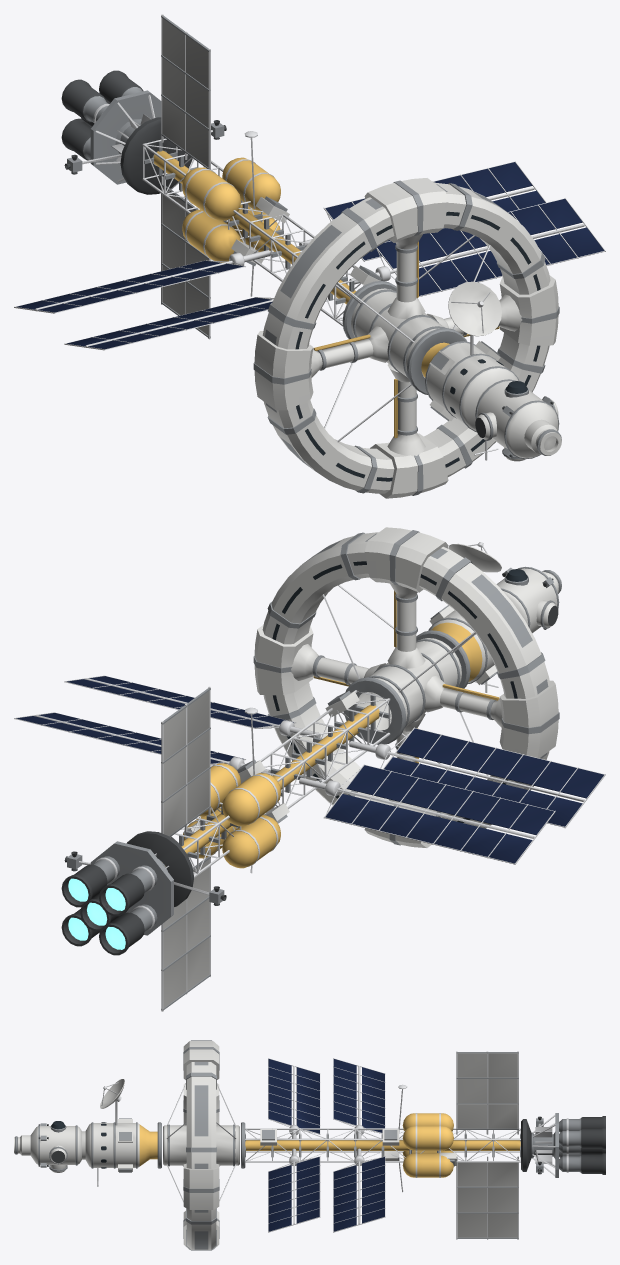
File: hermes.glb
The picture shows the model from 3 angles, top to bottom: view 1: azimuth 30°, elevation 25°; view 2: azimuth 150°, elevation 25°; view 3: azimuth 270°, elevation 25°; orthographic projection. The views are drawn at different scales.
Parts seen in each view (by area): view 1: hermes_mesh, ring_mesh; view 2: hermes_mesh, ring_mesh; view 3: hermes_mesh, ring_mesh.
Boxes of the visible parts, <box> form: hermes_mesh: <box>14,14,605,461</box>; ring_mesh: <box>253,178,559,498</box>; hermes_mesh: <box>14,542,605,1011</box>; ring_mesh: <box>253,527,559,847</box>; hermes_mesh: <box>14,1051,605,1239</box>; ring_mesh: <box>163,1040,239,1250</box>.
Size of the model in its own units: 38.04 by 21.8 by 60.
